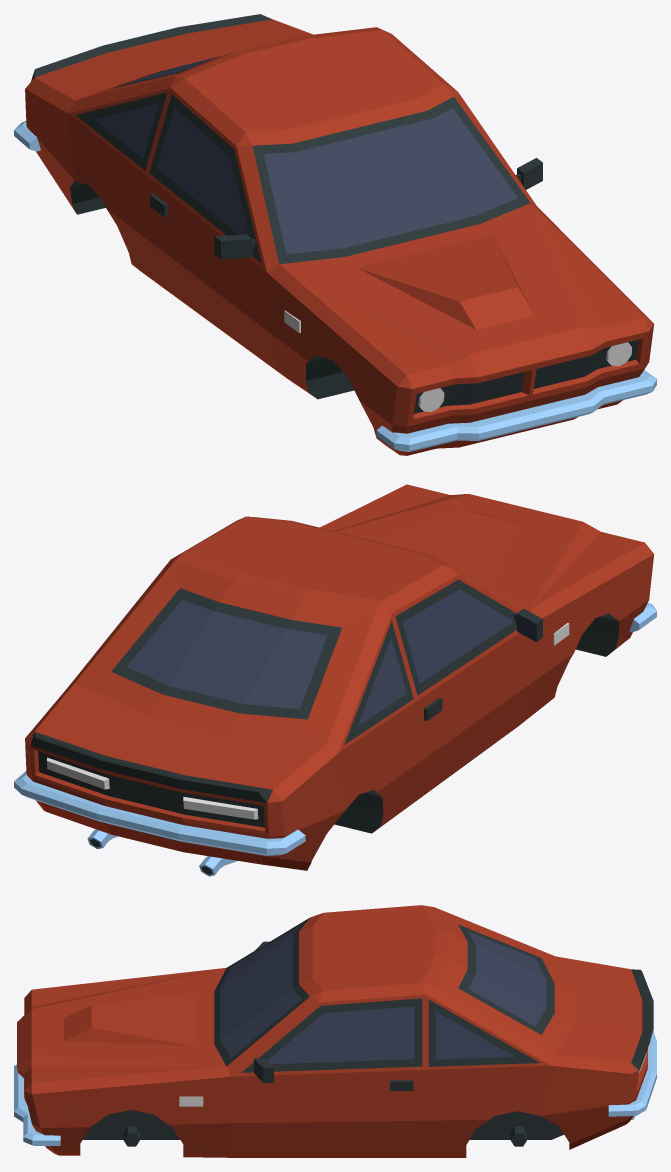
Rendered from Muscle.fbx.
3 views of the same model, one above another, from view 1: azimuth 30°, elevation 25°; view 2: azimuth 150°, elevation 25°; view 3: azimuth 270°, elevation 25° (orthographic). The views are drawn at different scales.
Visible parts, largest first — view 1: Muscle; view 2: Muscle; view 3: Muscle.
Boxes of the visible parts, x1=… form: Muscle: x1=14, y1=14, x2=656, y2=455; Muscle: x1=14, y1=484, x2=656, y2=876; Muscle: x1=14, y1=905, x2=656, y2=1157.
Size of the model in its own units: 176 by 110 by 378.
